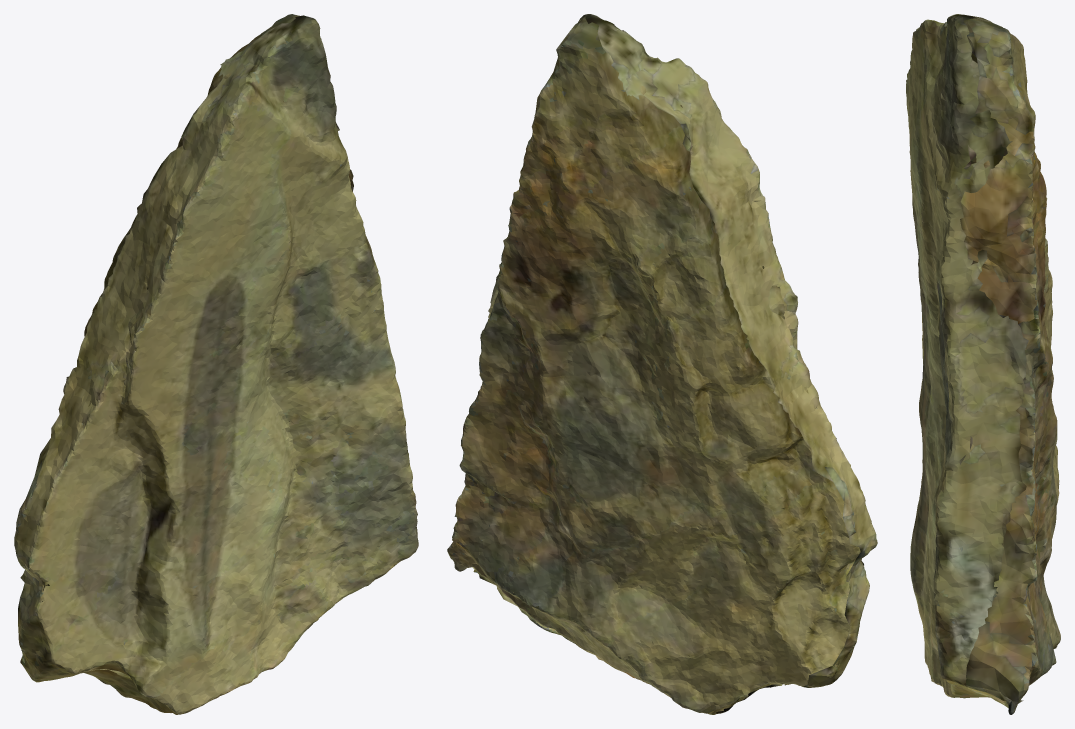
Rendered from blechnacea.glb.
3 renders of one model, left to right at view 1: azimuth 30°, elevation 25°; view 2: azimuth 150°, elevation 25°; view 3: azimuth 270°, elevation 25°, orthographic. The views are drawn at different scales.
Visible parts, largest first — view 1: node; view 2: node; view 3: node.
Boxes of the visible parts, bbox=[...] form: node: bbox=[14, 14, 418, 714]; node: bbox=[447, 14, 877, 714]; node: bbox=[906, 14, 1060, 714].
Size of the model in its own units: 0.7144 by 1.12 by 0.2158.
4 materials, 4 textured.
